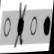correct: (42, 15, 51, 37)
not correct: (14, 1, 27, 48)
